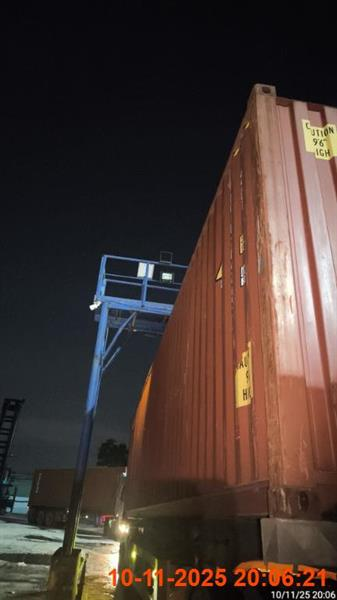broken: (113, 84, 336, 599)
